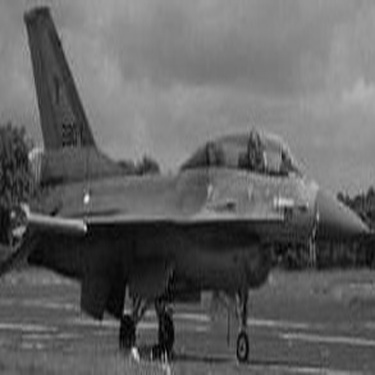airplane: (1, 6, 373, 372)
